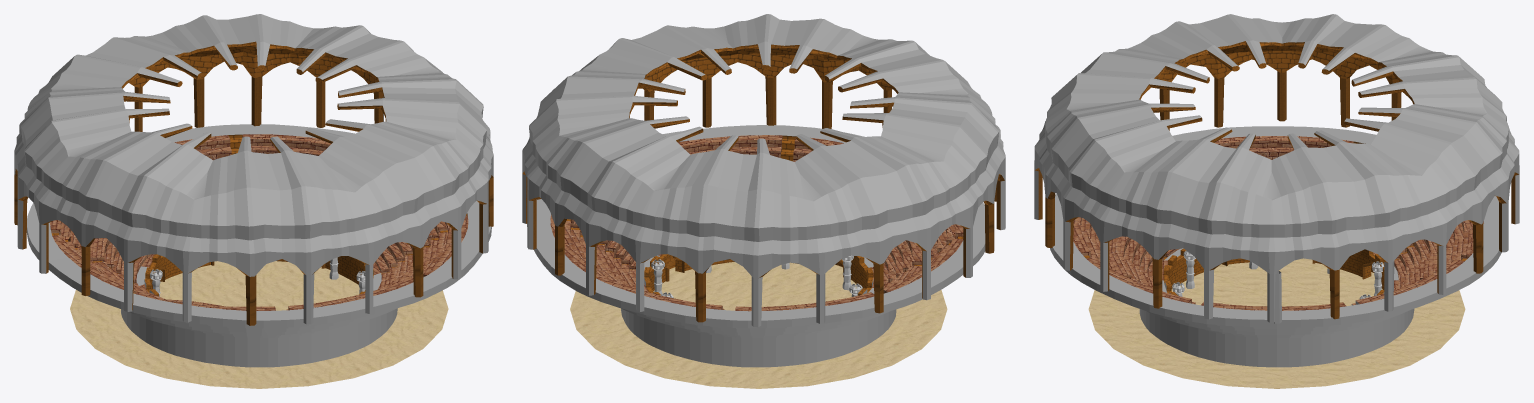
File: Aréne2.fbx
3 views of the same model, side by side, from view 1: azimuth 30°, elevation 25°; view 2: azimuth 150°, elevation 25°; view 3: azimuth 270°, elevation 25° (orthographic).
Visible parts, largest first — view 1: polySurface20, polySurface22, pDisc11; view 2: polySurface20, polySurface22, pDisc11; view 3: polySurface20, polySurface22, pDisc11.
Part boxes in pixels (<box>): polySurface20: <box>14,14,493,325</box>; polySurface22: <box>26,124,491,367</box>; pDisc11: <box>70,261,448,388</box>; polySurface20: <box>522,14,1005,327</box>; polySurface22: <box>527,125,985,367</box>; pDisc11: <box>570,262,947,388</box>; polySurface20: <box>1034,14,1519,322</box>; polySurface22: <box>1050,126,1501,367</box>; pDisc11: <box>1088,258,1465,388</box>.
Size of the model in its own units: 100 by 49.5 by 100.
